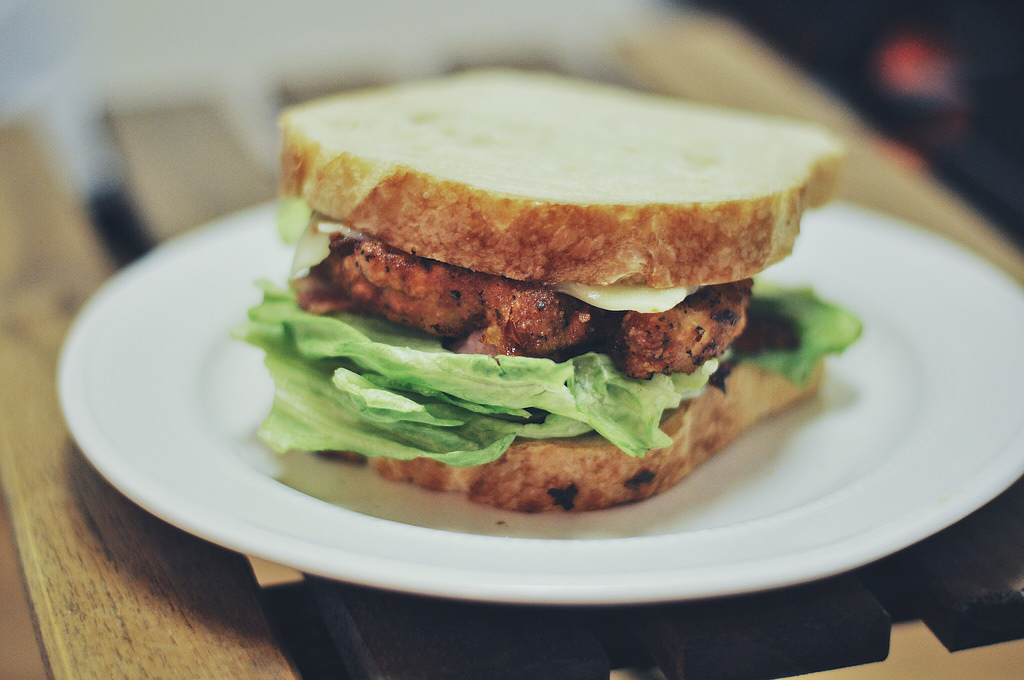chopped lettuce: (250, 311, 691, 440)
slice of bread: (281, 83, 850, 273)
